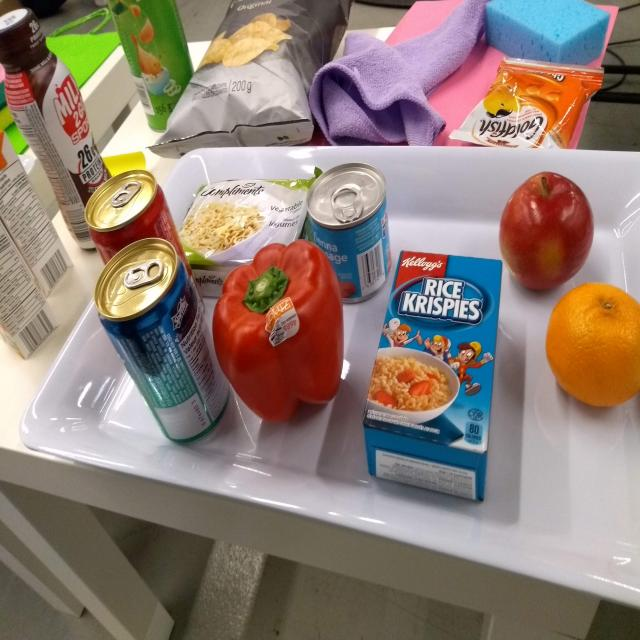apple: (498, 169, 598, 296)
cereal: (359, 246, 512, 507)
crackers: (448, 53, 607, 154)
orange: (543, 280, 640, 413)
paprika: (211, 237, 349, 433)
sausages: (303, 159, 397, 312)
sprite: (92, 233, 234, 449)
